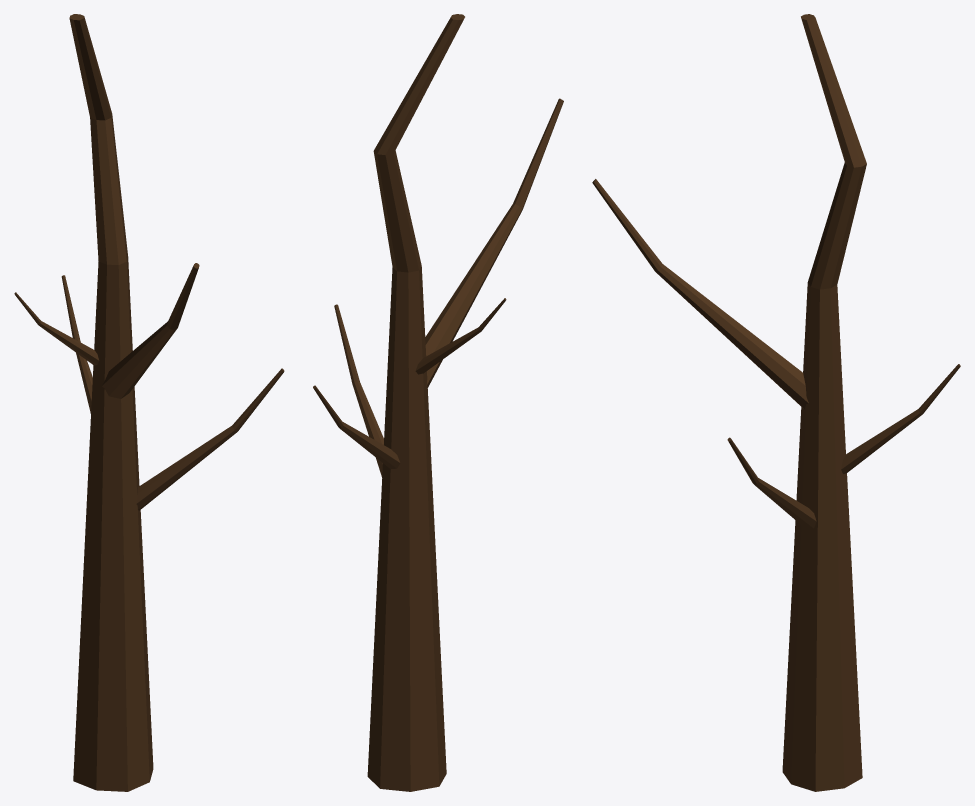
File: Wood 003.fbx
3 renders of one model, left to right at view 1: azimuth 30°, elevation 25°; view 2: azimuth 150°, elevation 25°; view 3: azimuth 270°, elevation 25°, orthographic. The views are drawn at different scales.
Parts seen in each view (by area): view 1: Tree 003; view 2: Tree 003; view 3: Tree 003.
Part boxes in pixels (x1,y1,x2,y2): Tree 003: (14,14,284,791); Tree 003: (313,14,563,791); Tree 003: (592,14,960,791).
Size of the model in its own units: 108 by 360 by 163.
